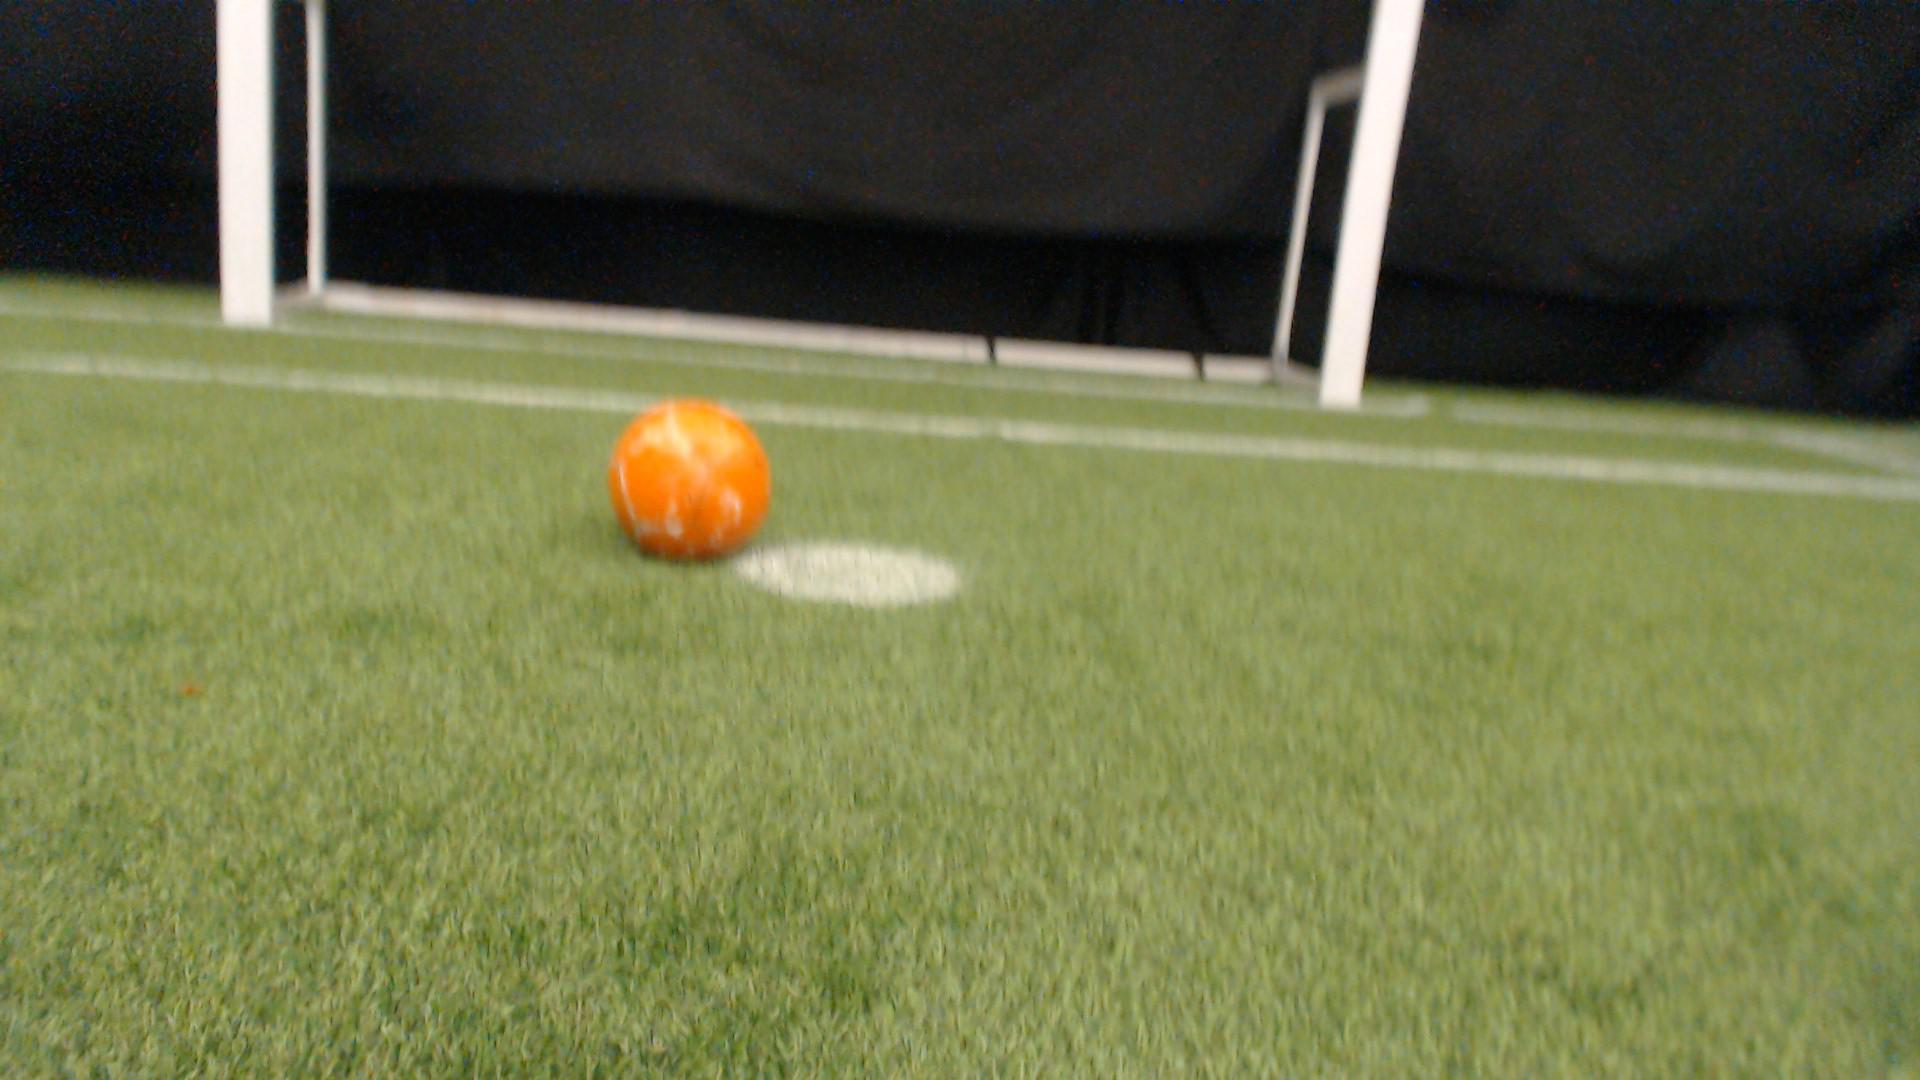bola: (597, 385, 800, 588)
